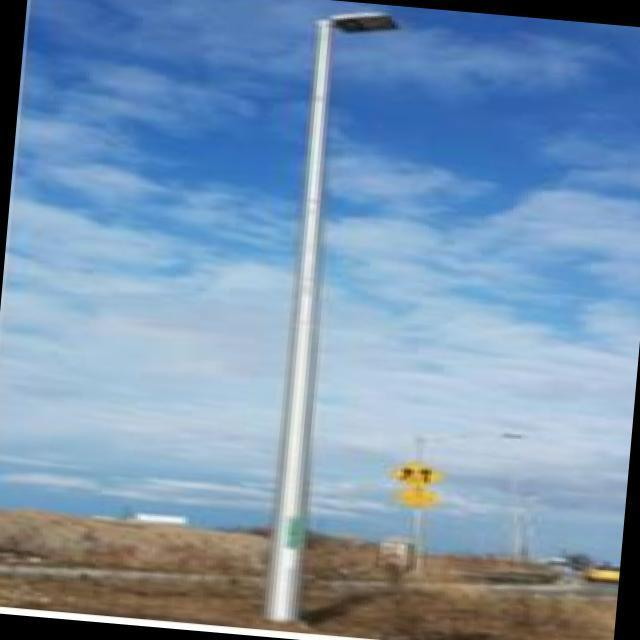off: (315, 0, 424, 108)
